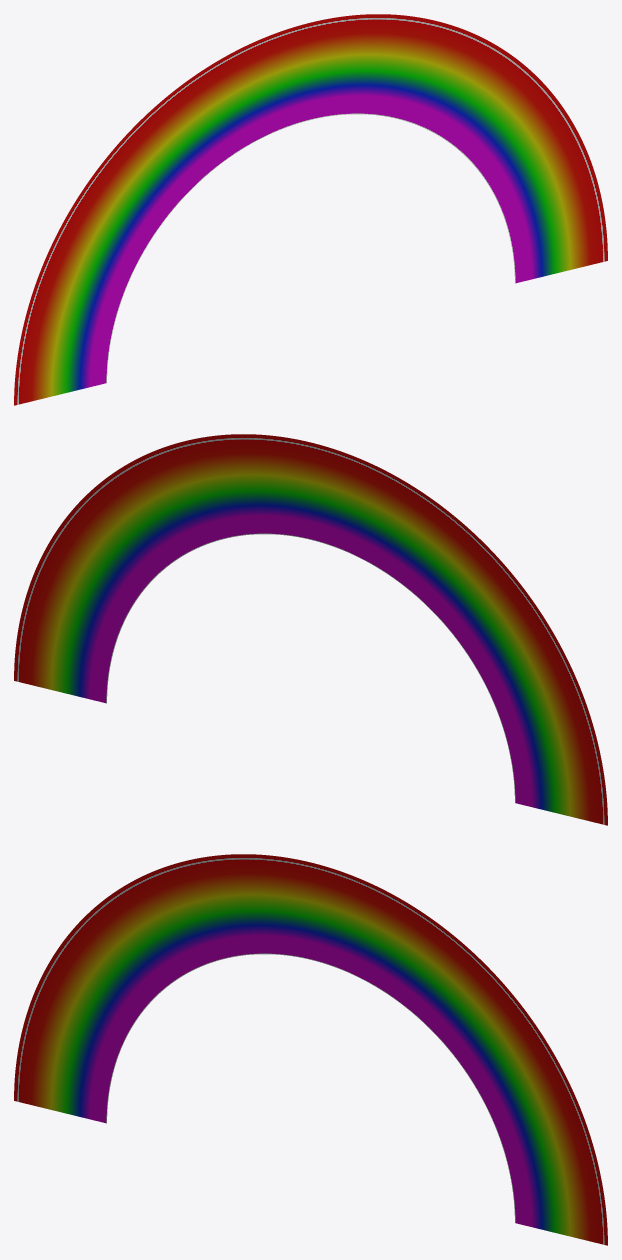
The model's file is rainbowflat.gltf.
3 renders of one model, top to bottom at view 1: azimuth 30°, elevation 25°; view 2: azimuth 150°, elevation 25°; view 3: azimuth 330°, elevation 25°, orthographic.
Bounding box in the file's own units: 2.48 × 1.24 × 1.04e-06.
1 material, 1 textured.
